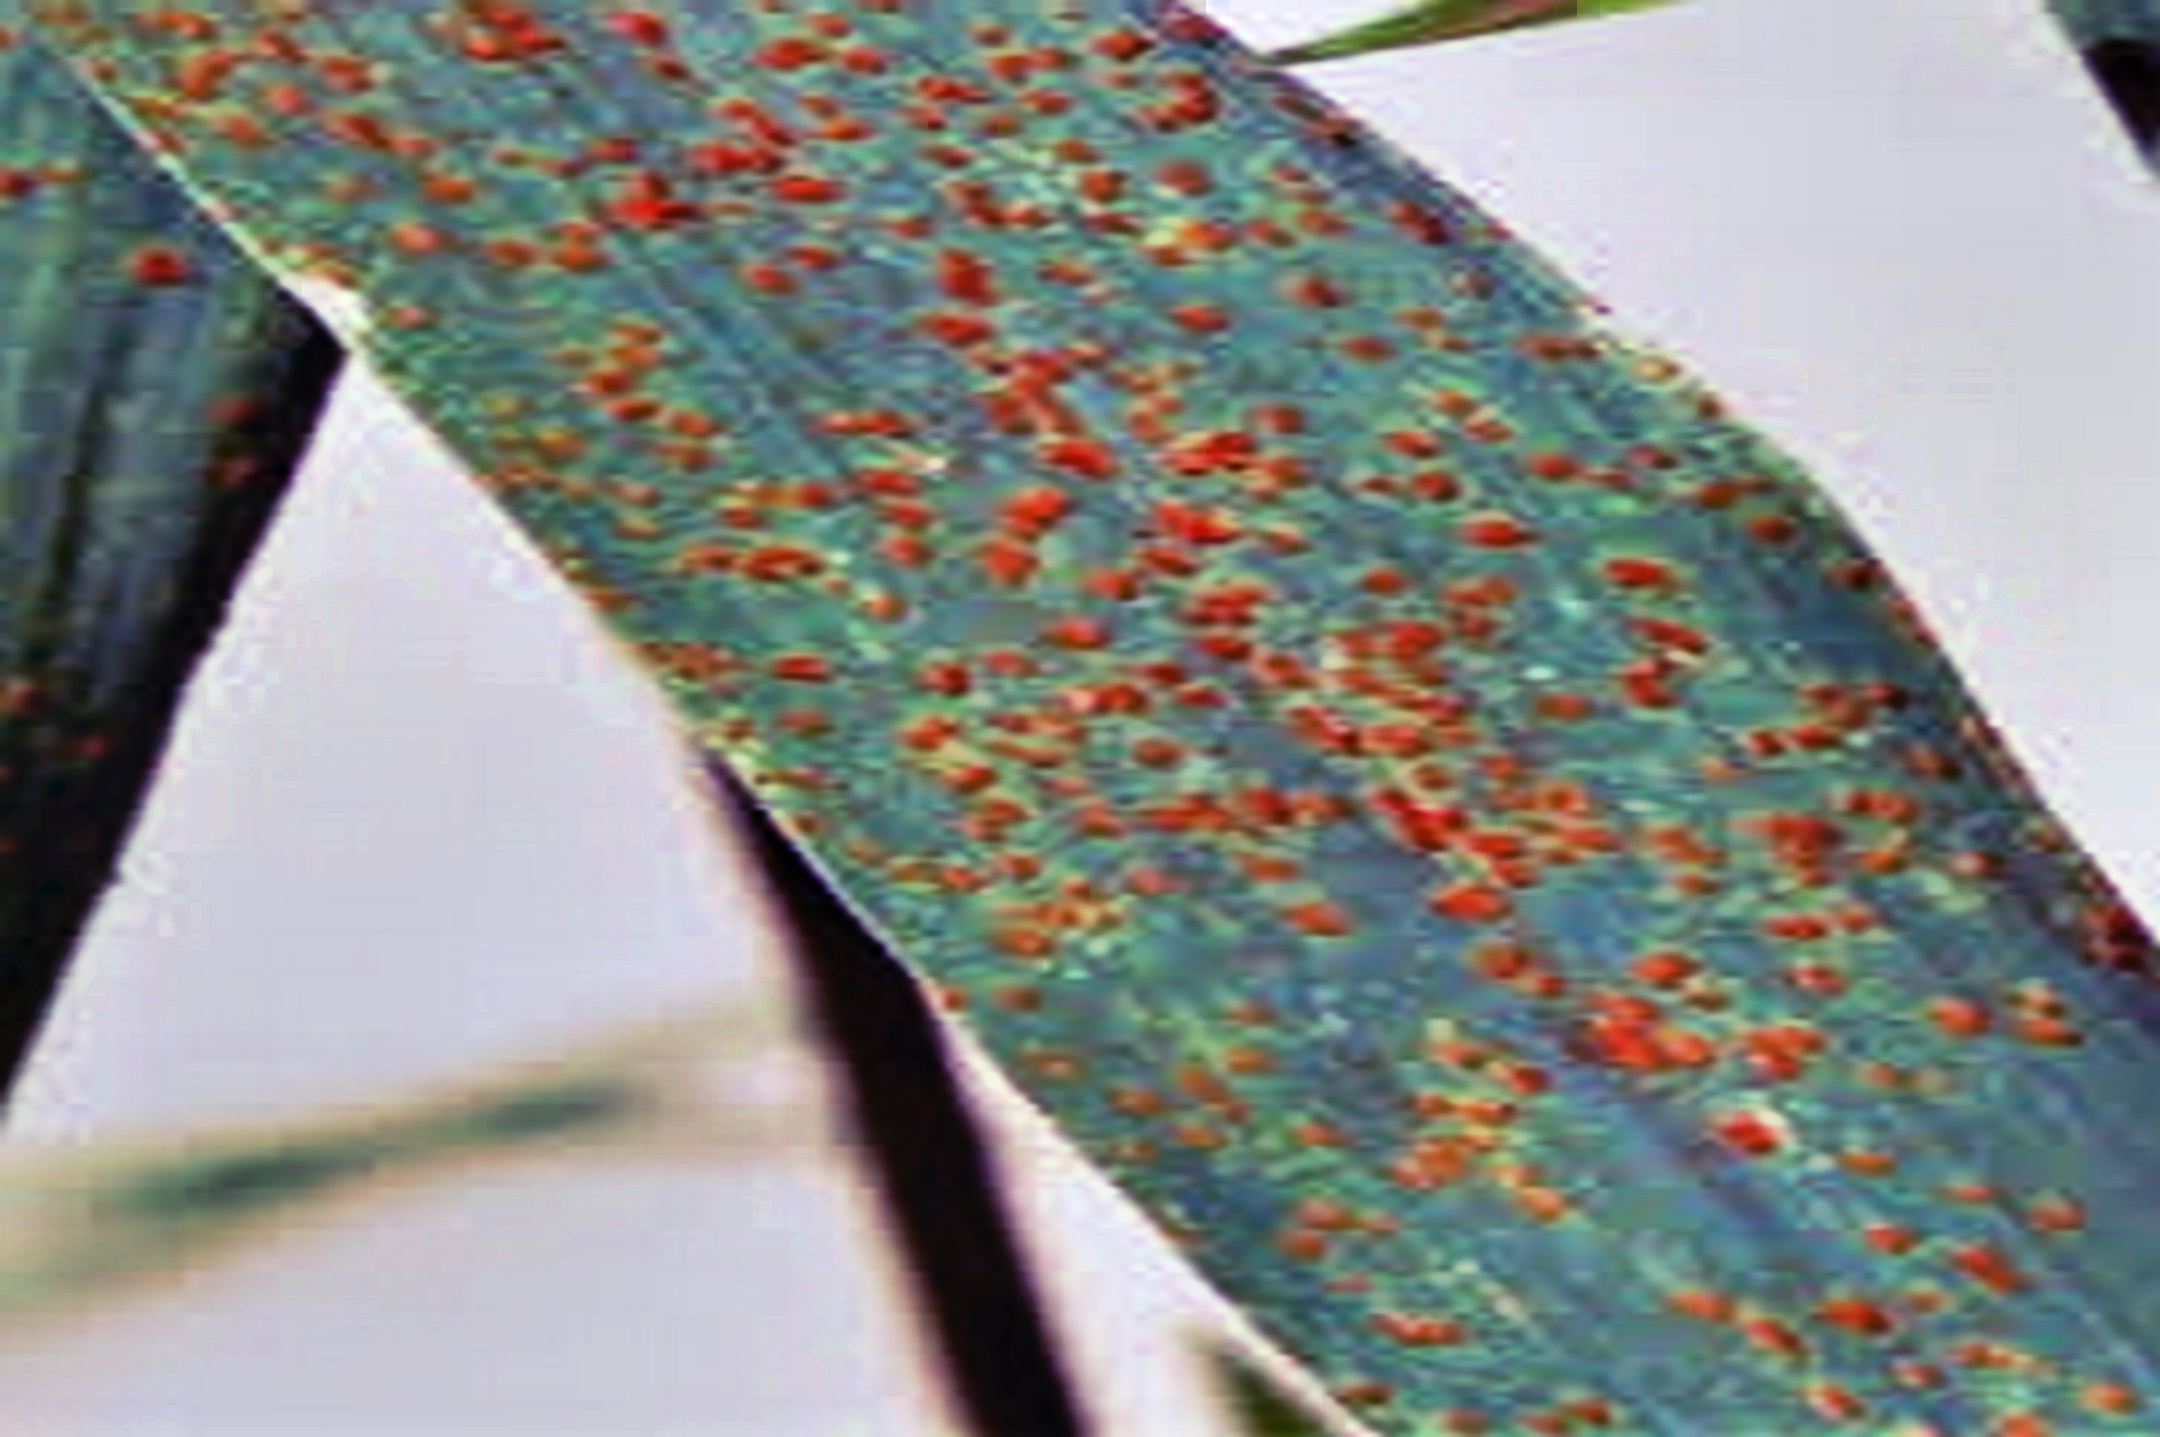Leaf Rust: (502, 71, 1919, 1314)
